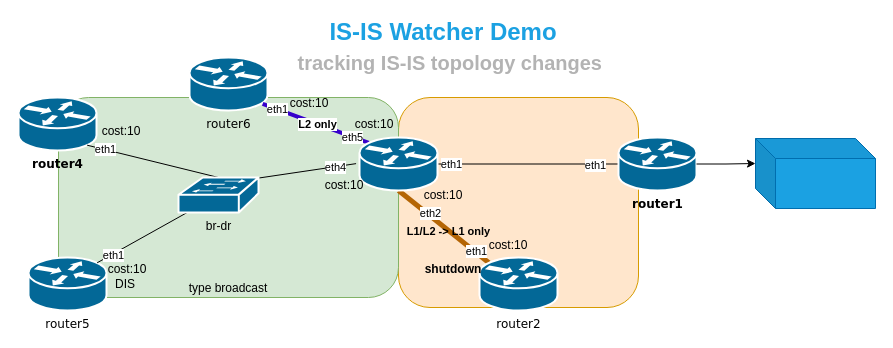
This 893x348 diagram has some shape labels left out. The shapes that lost their labels are listed below. From the top down, each one's box as (x1, y1, x2, y2) in pixels, then its label:
(358, 136, 438, 191): router3
(754, 138, 876, 208): IS-IS Watcher
(398, 96, 638, 308): type p2p
